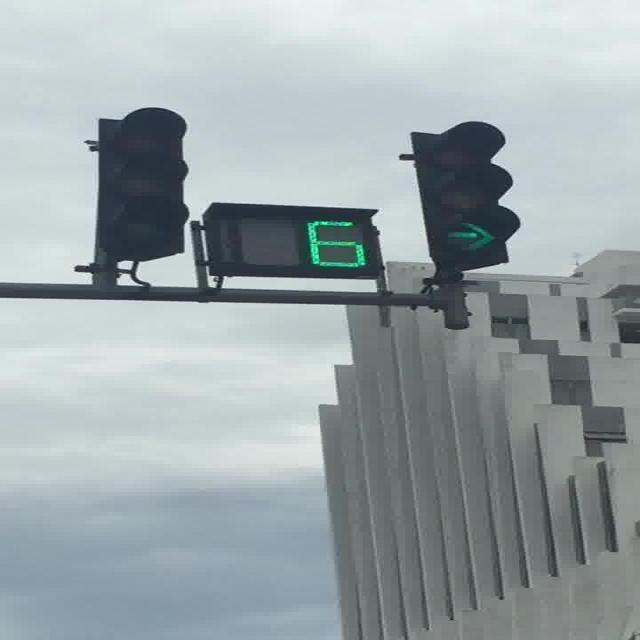green_light: (407, 121, 519, 266)
